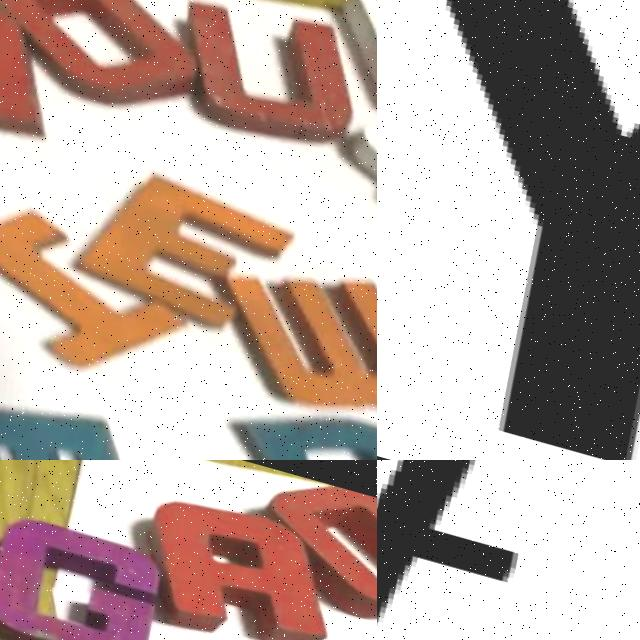A: (110, 482, 343, 640), (0, 0, 71, 156)
D: (195, 395, 377, 460)
E: (66, 164, 298, 338)
G: (0, 504, 180, 640)
H: (313, 0, 377, 130)
I: (0, 186, 203, 391)
M: (0, 377, 169, 460)
O: (0, 0, 212, 120), (251, 472, 377, 631)
Q: (341, 80, 377, 251)
U: (163, 0, 362, 159)
W: (206, 253, 377, 433)
Y: (377, 0, 640, 460)
